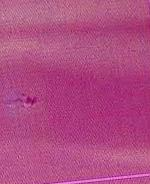knot: (15, 91, 45, 113)
